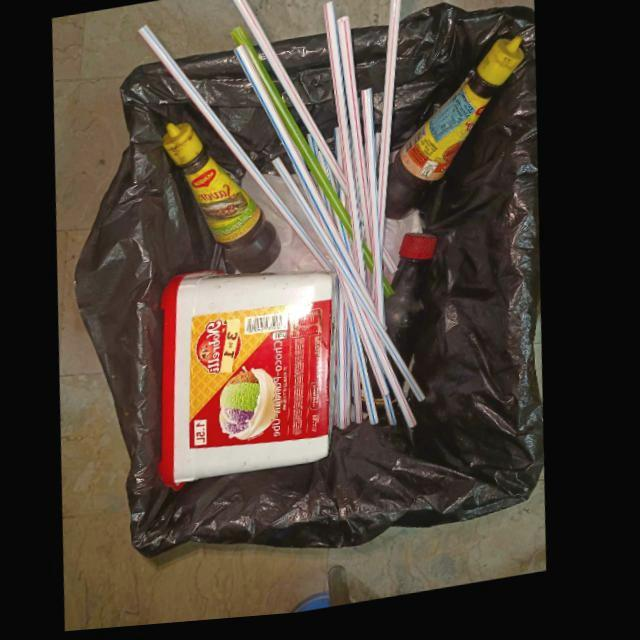plastic_bottle: (388, 44, 526, 227), (165, 124, 285, 277), (389, 239, 442, 370)
plastic_container: (164, 273, 341, 493)
